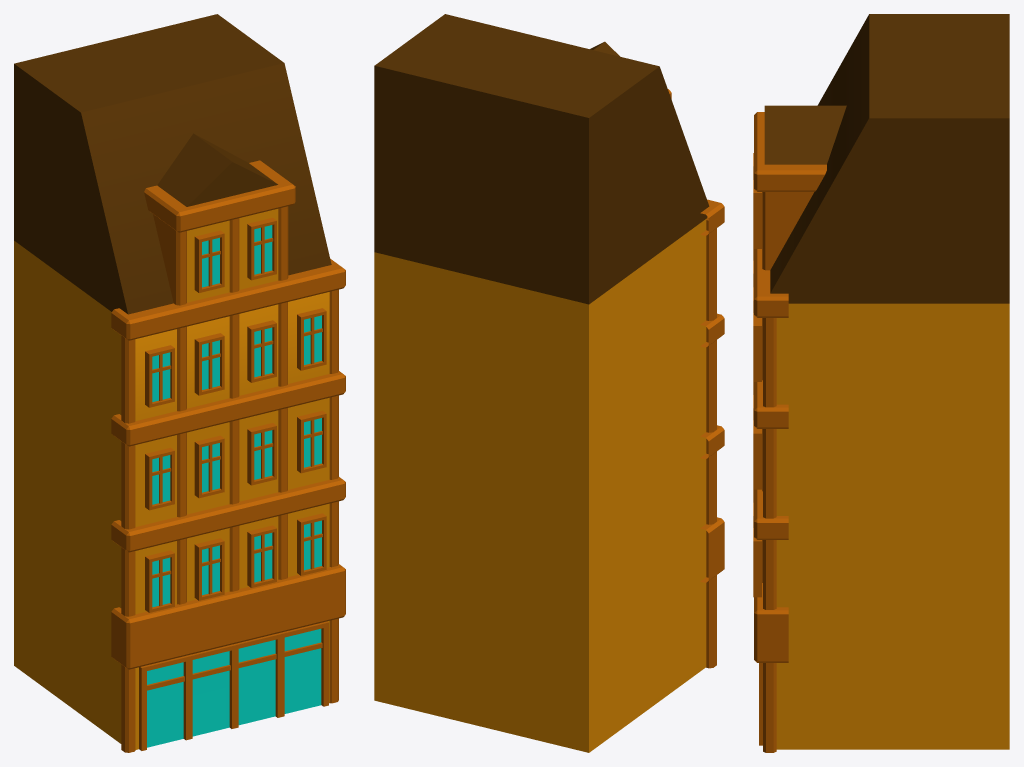
Rendered from mdl_poland_kamienica_3.gltf.
3 views of the same model, side by side, from view 1: azimuth 30°, elevation 25°; view 2: azimuth 150°, elevation 25°; view 3: azimuth 270°, elevation 25° (orthographic). The views are drawn at different scales.
Parts seen in each view (by area): view 1: Cube.035, Cube.046, Cube.048, Cube.045, Cube.050, Cube.044, Cube.049, Cube.042, Cube.038, Cube.036, Cube.037, Cube.047 (+2 smaller); view 2: Cube.035, Cube.044, Cube.045; view 3: Cube.035, Cube.044, Cube.049, Cube.042, Cube.047, Cube.045, Cube.050, Cube.038, Cube.037, Cube.036, Cube.048.
Part boxes in pixels (bbox=[...]): Cube.035: bbox=[14, 14, 331, 749]; Cube.046: bbox=[139, 621, 328, 750]; Cube.048: bbox=[194, 217, 276, 600]; Cube.045: bbox=[111, 564, 345, 669]; Cube.050: bbox=[145, 308, 326, 612]; Cube.044: bbox=[121, 289, 338, 752]; Cube.049: bbox=[157, 133, 278, 302]; Cube.042: bbox=[153, 206, 288, 604]; Cube.038: bbox=[111, 259, 345, 340]; Cube.036: bbox=[111, 371, 345, 446]; Cube.037: bbox=[111, 477, 345, 552]; Cube.047: bbox=[144, 160, 295, 232]; Cube.035: bbox=[374, 14, 709, 752]; Cube.044: bbox=[706, 217, 716, 668]; Cube.045: bbox=[700, 517, 724, 582]; Cube.035: bbox=[770, 14, 1009, 749]; Cube.044: bbox=[763, 318, 776, 752]; Cube.049: bbox=[764, 105, 846, 164]; Cube.042: bbox=[762, 192, 813, 582]; Cube.047: bbox=[754, 112, 826, 191]; Cube.045: bbox=[754, 540, 788, 662]; Cube.050: bbox=[753, 249, 761, 597]; Cube.038: bbox=[754, 192, 788, 317]; Cube.037: bbox=[754, 429, 788, 539]; Cube.036: bbox=[754, 318, 788, 428]; Cube.048: bbox=[753, 153, 761, 527].
Size of the model in its own units: 1.67 by 4.39 by 1.61.
Materials: 2 (2 with a texture image).
